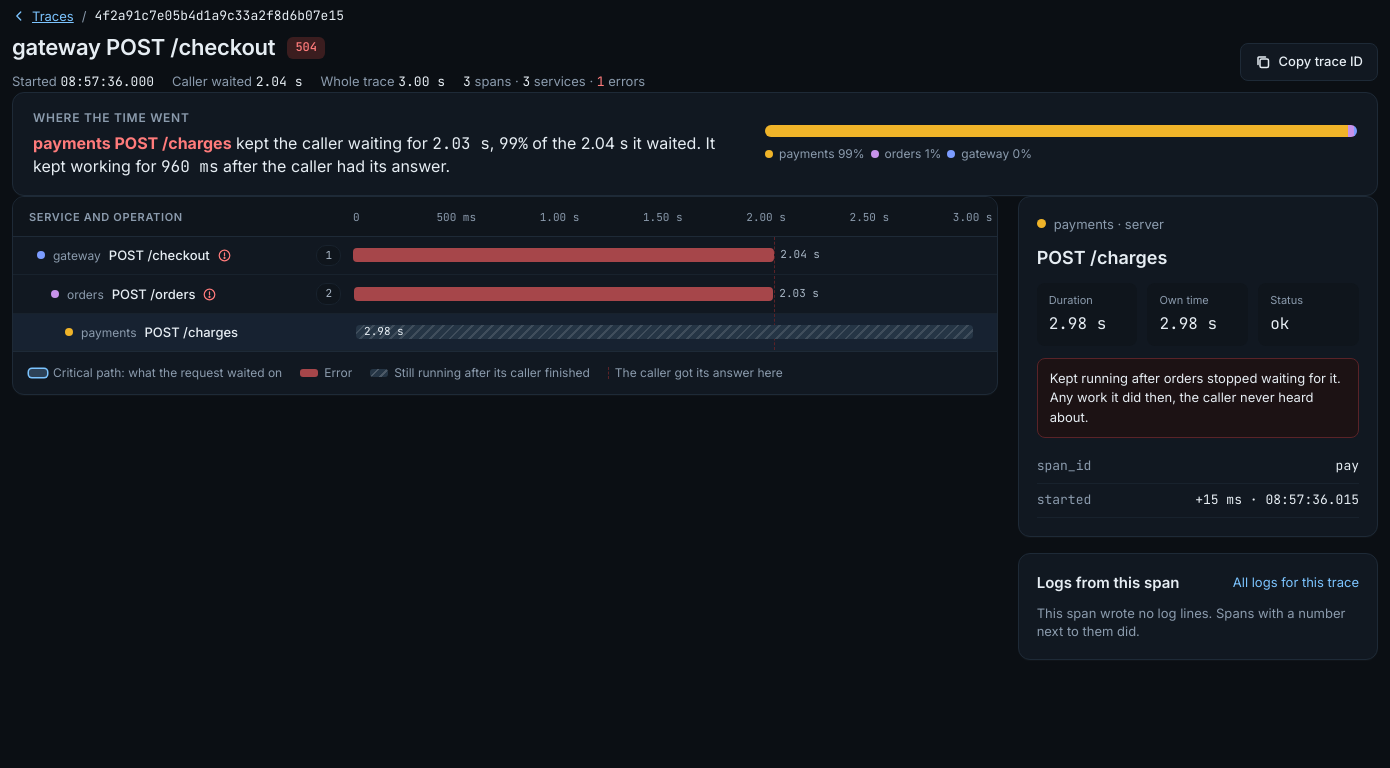
Test: trace view › loads a span's logs when its bar is clicked
What coordinates should you click on to do the following:
click the button "orders POST /orders 2 2.03 s"
I would click on:
 (505, 295)
Its box is left=13, top=275, right=997, bottom=314.
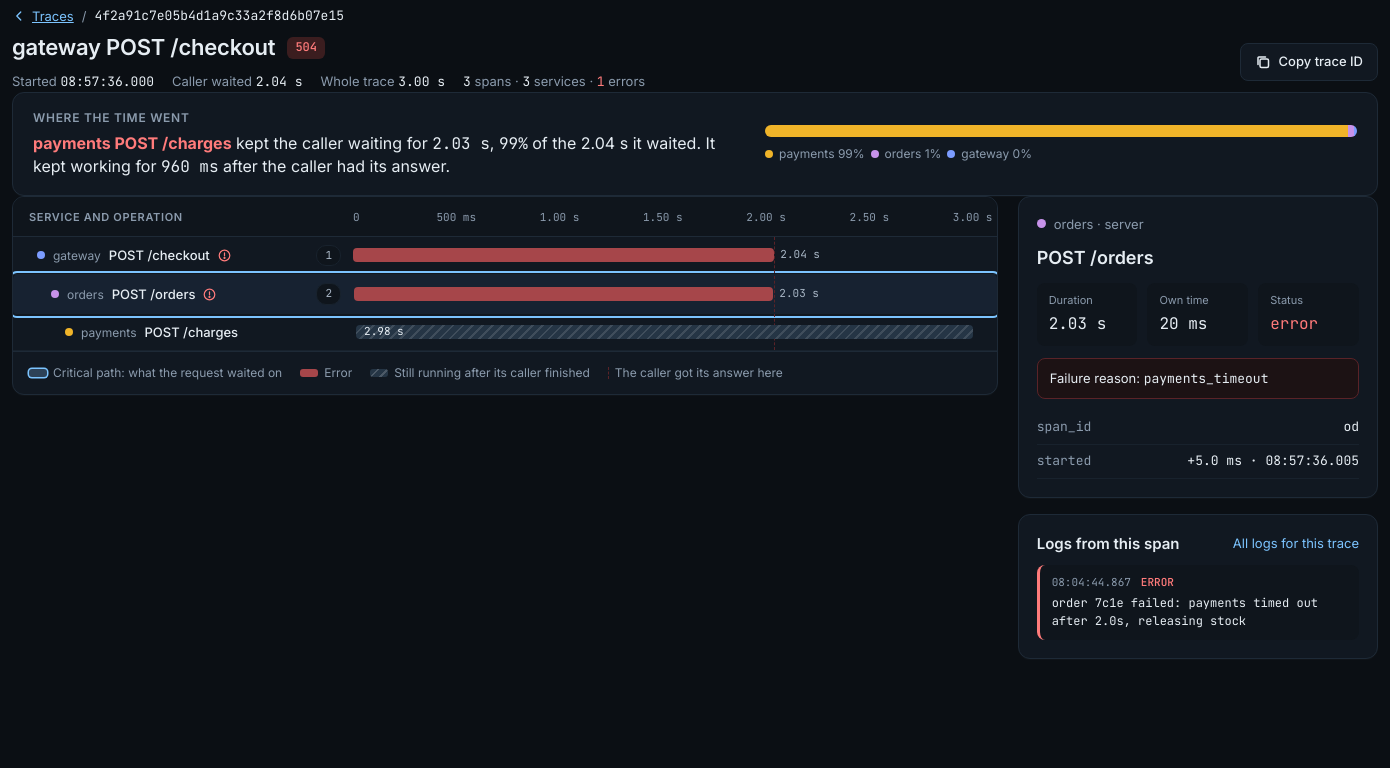
Expected: the text "payments timed out after 2.0s" is shown, left=1052, top=595, right=1325, bottom=629
